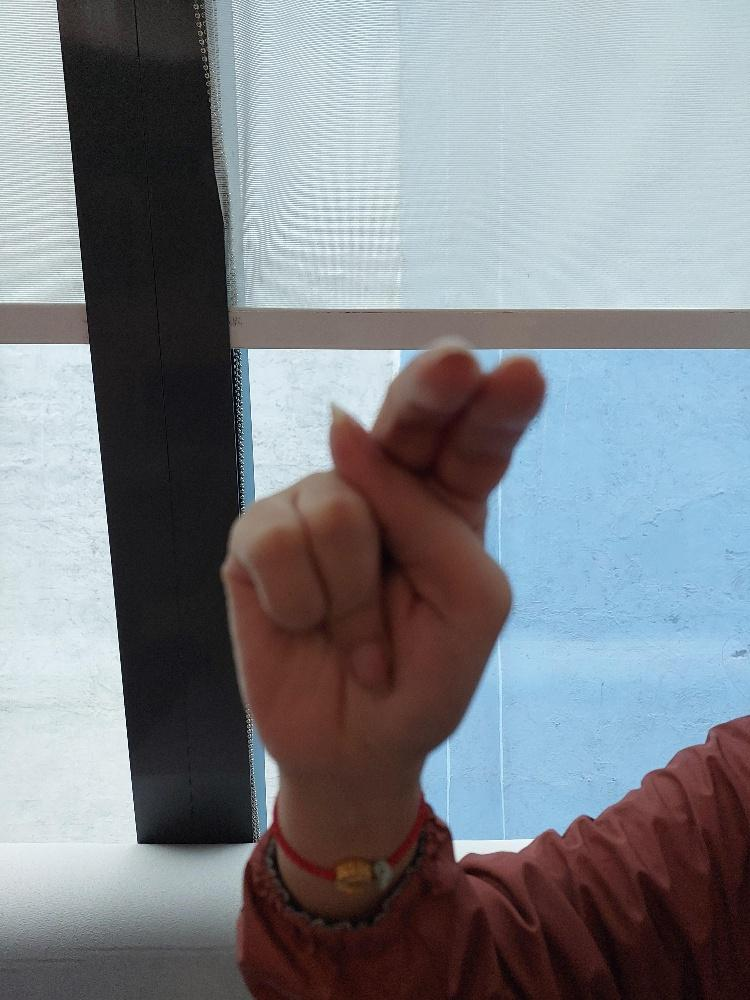n: (214, 334, 551, 786)
